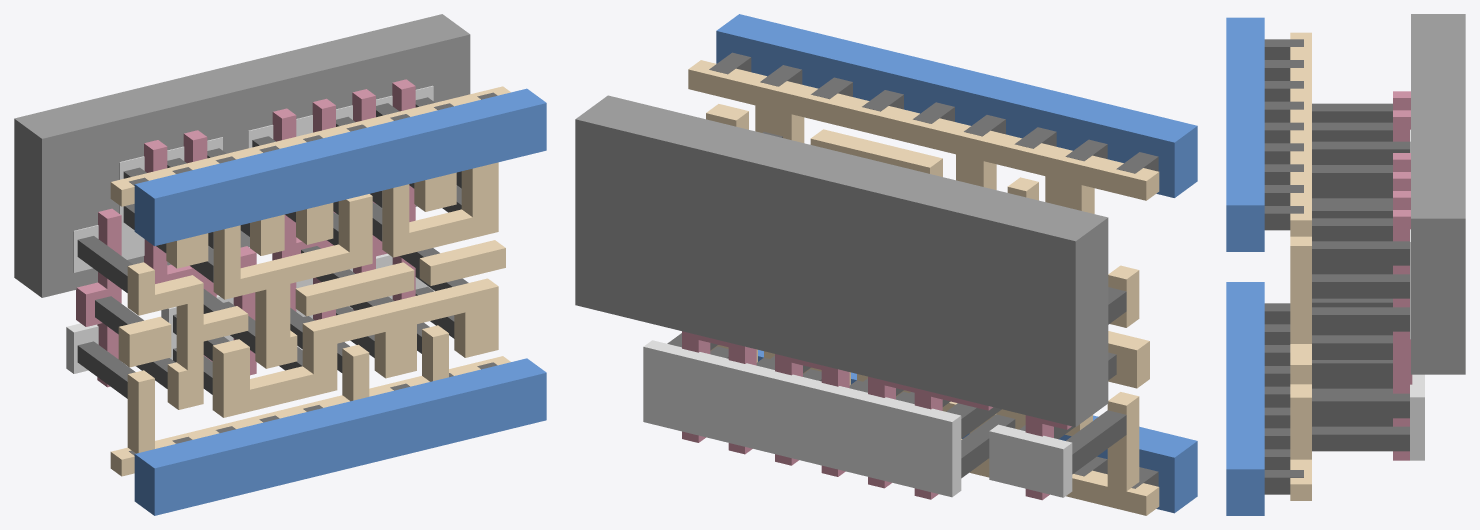
File: sky130_fd_sc_hd__o21bai_2.gds.gltf
3 renders of one model, left to right at view 1: azimuth 30°, elevation 25°; view 2: azimuth 150°, elevation 25°; view 3: azimuth 270°, elevation 25°, orthographic. The views are drawn at different scales.
Parts seen in each view (by area): view 1: sky130_fd_sc_hd__o21bai_2_li1, sky130_fd_sc_hd__o21bai_2_met1, sky130_fd_sc_hd__o21bai_2_nwell, sky130_fd_sc_hd__o21bai_2_licon, sky130_fd_sc_hd__o21bai_2_poly, sky130_fd_sc_hd__o21bai_2_diff, sky130_fd_sc_hd__o21bai_2_mcon; view 2: sky130_fd_sc_hd__o21bai_2_nwell, sky130_fd_sc_hd__o21bai_2_diff, sky130_fd_sc_hd__o21bai_2_li1, sky130_fd_sc_hd__o21bai_2_met1, sky130_fd_sc_hd__o21bai_2_licon, sky130_fd_sc_hd__o21bai_2_mcon, sky130_fd_sc_hd__o21bai_2_poly; view 3: sky130_fd_sc_hd__o21bai_2_licon, sky130_fd_sc_hd__o21bai_2_nwell, sky130_fd_sc_hd__o21bai_2_met1, sky130_fd_sc_hd__o21bai_2_mcon, sky130_fd_sc_hd__o21bai_2_li1, sky130_fd_sc_hd__o21bai_2_poly, sky130_fd_sc_hd__o21bai_2_diff.
Boxes of the visible parts, x1=… form: sky130_fd_sc_hd__o21bai_2_li1: x1=110, y1=86, x2=510, y2=476; sky130_fd_sc_hd__o21bai_2_met1: x1=134, y1=88, x2=546, y2=515; sky130_fd_sc_hd__o21bai_2_nwell: x1=14, y1=14, x2=470, y2=297; sky130_fd_sc_hd__o21bai_2_licon: x1=77, y1=97, x2=468, y2=398; sky130_fd_sc_hd__o21bai_2_poly: x1=76, y1=79, x2=415, y2=387; sky130_fd_sc_hd__o21bai_2_diff: x1=66, y1=85, x2=433, y2=373; sky130_fd_sc_hd__o21bai_2_mcon: x1=129, y1=92, x2=497, y2=455; sky130_fd_sc_hd__o21bai_2_nwell: x1=575, y1=95, x2=1108, y2=427; sky130_fd_sc_hd__o21bai_2_diff: x1=643, y1=340, x2=1072, y2=497; sky130_fd_sc_hd__o21bai_2_li1: x1=688, y1=60, x2=1159, y2=515; sky130_fd_sc_hd__o21bai_2_met1: x1=716, y1=14, x2=1197, y2=513; sky130_fd_sc_hd__o21bai_2_licon: x1=667, y1=132, x2=1126, y2=478; sky130_fd_sc_hd__o21bai_2_mcon: x1=709, y1=52, x2=1158, y2=488; sky130_fd_sc_hd__o21bai_2_poly: x1=682, y1=331, x2=1071, y2=500; sky130_fd_sc_hd__o21bai_2_licon: x1=1312, y1=103, x2=1409, y2=451; sky130_fd_sc_hd__o21bai_2_nwell: x1=1411, y1=14, x2=1465, y2=374; sky130_fd_sc_hd__o21bai_2_met1: x1=1226, y1=17, x2=1264, y2=515; sky130_fd_sc_hd__o21bai_2_mcon: x1=1264, y1=39, x2=1303, y2=494; sky130_fd_sc_hd__o21bai_2_li1: x1=1290, y1=32, x2=1311, y2=500; sky130_fd_sc_hd__o21bai_2_poly: x1=1393, y1=91, x2=1412, y2=460; sky130_fd_sc_hd__o21bai_2_diff: x1=1410, y1=129, x2=1424, y2=460.
Bounding box in the file's own units: 4.52 × 3.2 × 2.24.
